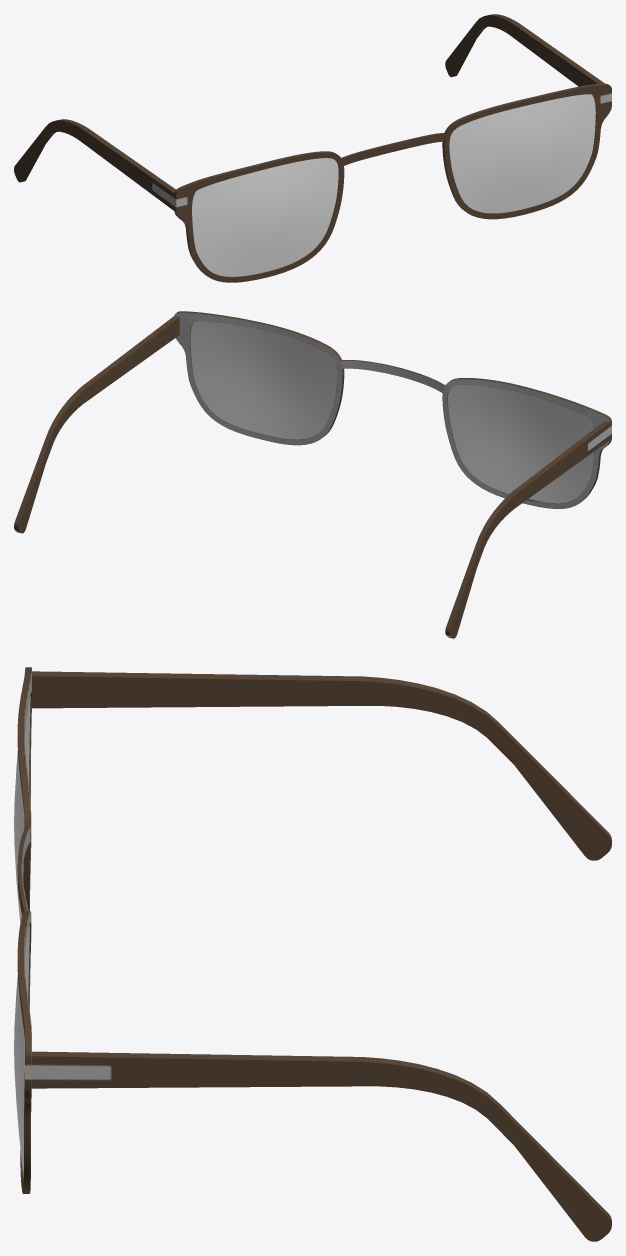
The model's file is PRADA Glasses Wide Full Res Shorter Arms.fbx.
The picture shows the model from 3 angles, top to bottom: view 1: azimuth 30°, elevation 25°; view 2: azimuth 150°, elevation 25°; view 3: azimuth 270°, elevation 25°; orthographic projection. The views are drawn at different scales.
Visible parts, largest first — view 1: PRADA Glasses Wide Full Res Shorter Arms; view 2: PRADA Glasses Wide Full Res Shorter Arms; view 3: PRADA Glasses Wide Full Res Shorter Arms.
Boxes of the visible parts, x1,y1,x2,y2 form: PRADA Glasses Wide Full Res Shorter Arms: (14,14,611,282); PRADA Glasses Wide Full Res Shorter Arms: (14,311,611,638); PRADA Glasses Wide Full Res Shorter Arms: (14,667,611,1241).
Size of the model in its own units: 0.1874 by 0.0471 by 0.1229.
